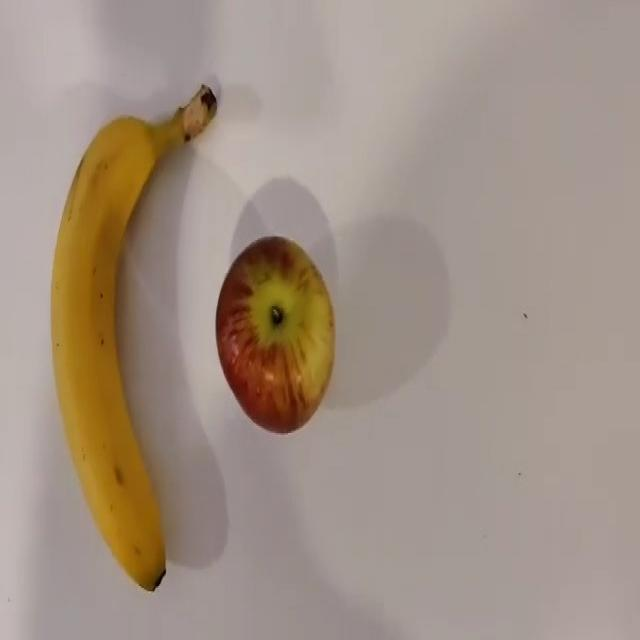Apple: (214, 235, 335, 433)
Banana: (49, 82, 218, 592)
